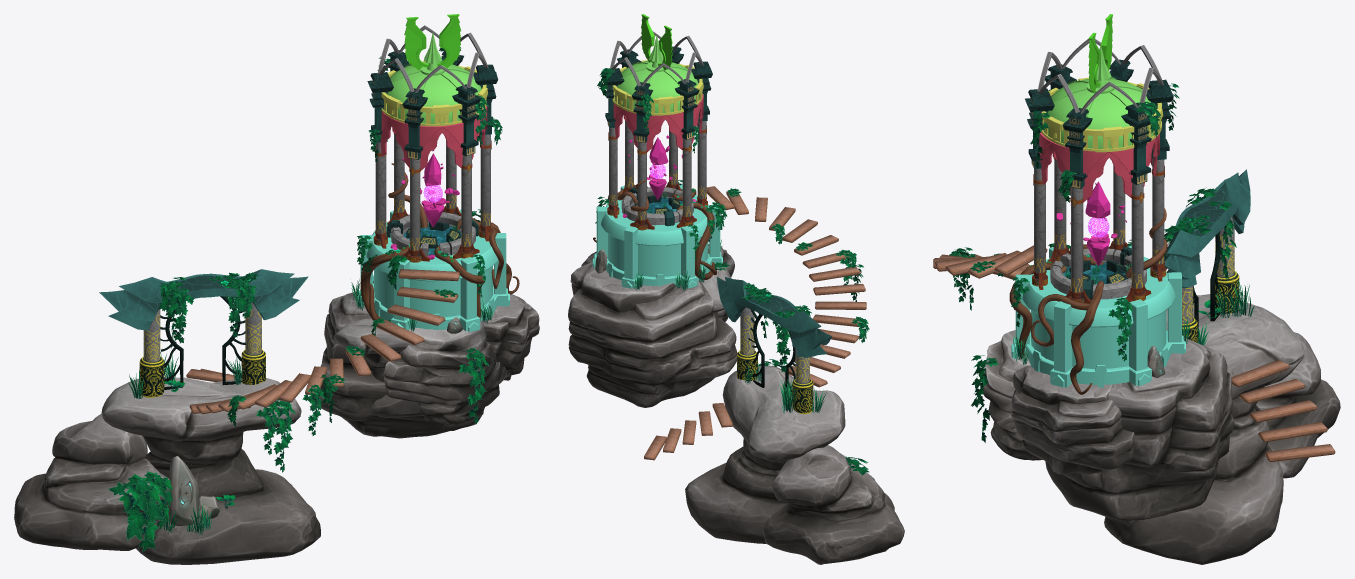
Rendered from Secret Place.fbx.
The picture shows the model from 3 angles, left to right: view 1: azimuth 30°, elevation 25°; view 2: azimuth 150°, elevation 25°; view 3: azimuth 270°, elevation 25°; orthographic projection. The views are drawn at different scales.
Parts seen in each view (by area): view 1: Mid_5, Mid_4, Mid_1, Mid_2, Base_Low, Circle.022, Mid_3, roof_low, roofDetail_Low, Mid_5.001, Cube.005, Ivy2.008 (+20 smaller); view 2: Mid_2, Mid_5, Mid_4, Base_Low, Circle.022, roof_low, roofDetail_Low, Cube.005, Cube.006, BaseInnerCircle_Low, SmallPillar_Low.005, SmallPillar_Low.004 (+20 smaller); view 3: Mid_2, Mid_5, Mid_3, Base_Low, Mid_4, roofDetail_Low, roof_low, Mid_1, Cube.005, Circle.022, BaseInnerCircle_Low, SmallPillar_Low.003 (+32 smaller).
Boxes of the visible parts, x1,y1,x2,y2 form: Mid_5: (101,377,320,564); Mid_4: (14,413,170,550); Mid_1: (384,321,506,425); Mid_2: (314,283,484,438); Base_Low: (356,221,509,331); Circle.022: (139,298,265,397); Mid_3: (484,294,539,380); roof_low: (386,32,482,123); roofDetail_Low: (384,49,481,159); Mid_5.001: (333,318,423,417); Cube.005: (119,269,294,303); Ivy2.008: (108,474,163,551); Mid_2: (568,262,737,407); Mid_5: (685,365,845,543); Mid_4: (763,445,904,564); Base_Low: (592,195,722,288); Circle.022: (737,307,813,414); roof_low: (614,35,698,113); roofDetail_Low: (604,46,712,142); Cube.005: (725,277,821,332); Cube.006: (716,277,831,350); BaseInnerCircle_Low: (621,187,693,225); SmallPillar_Low.005: (682,138,693,226); SmallPillar_Low.004: (636,142,647,230); Mid_2: (1045,325,1234,520); Mid_5: (1104,294,1304,564); Mid_3: (1010,366,1134,474); Base_Low: (1011,257,1185,387); Mid_4: (1256,332,1340,478); roofDetail_Low: (1025,64,1173,184); roof_low: (1044,44,1153,148); Mid_1: (983,330,1042,460); Cube.005: (1166,172,1240,257); Circle.022: (1182,217,1239,342); BaseInnerCircle_Low: (1050,248,1146,299); SmallPillar_Low.003: (1131,183,1145,300).
Bounding box in the file's own units: 1685 × 1906 × 1183.
